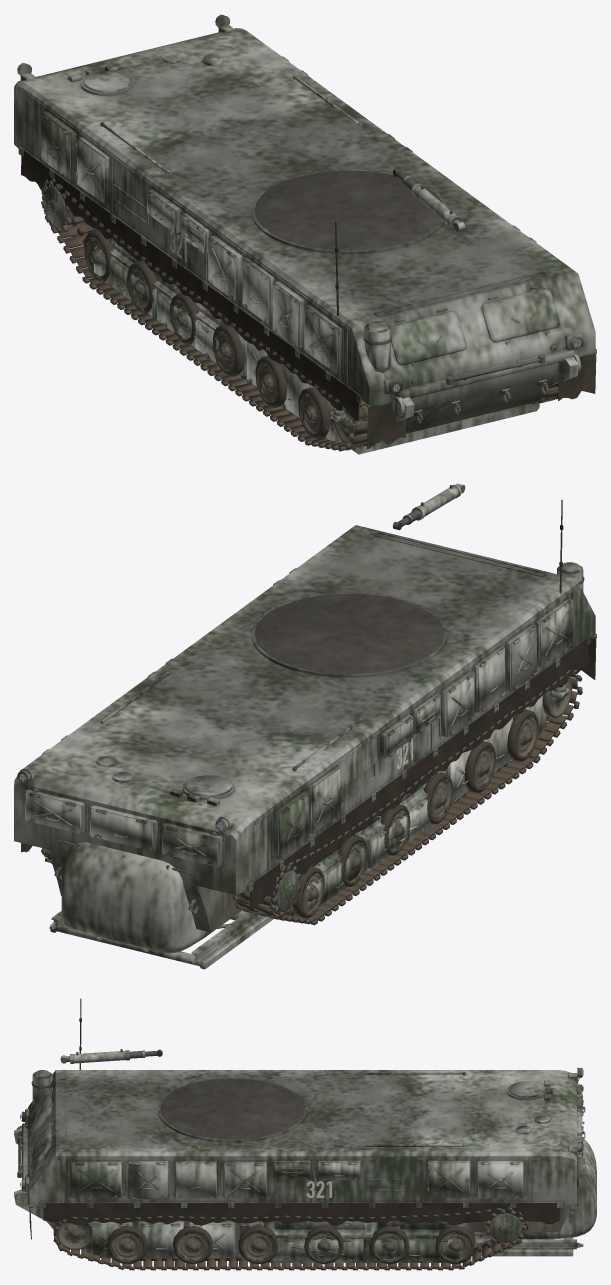
The model's file is buk_lo.glb.
The picture shows the model from 3 angles, top to bottom: view 1: azimuth 30°, elevation 25°; view 2: azimuth 150°, elevation 25°; view 3: azimuth 270°, elevation 25°; orthographic projection. The views are drawn at different scales.
Visible parts, largest first — view 1: body|BK_H, body|BK_R, turret|BK_T, cyl0|BK_T; view 2: body|BK_H, turret|BK_T, body|BK_R, cradle|BK_T, cyl0|BK_T; view 3: body|BK_H, body|BK_R, turret|BK_T, cradle|BK_T, cyl0|BK_T.
Part boxes in pixels (x1,y1,x2,y2): body|BK_H: [14, 14, 596, 449]; body|BK_R: [41, 178, 558, 451]; turret|BK_T: [92, 75, 581, 454]; cyl0|BK_T: [411, 183, 465, 231]; body|BK_H: [14, 525, 596, 932]; turret|BK_T: [61, 499, 568, 953]; body|BK_R: [41, 669, 582, 925]; cradle|BK_T: [49, 904, 273, 969]; cyl0|BK_T: [411, 483, 465, 520]; body|BK_H: [17, 1067, 585, 1239]; body|BK_R: [53, 1207, 528, 1270]; turret|BK_T: [14, 998, 596, 1262]; cradle|BK_T: [301, 1237, 583, 1263]; cyl0|BK_T: [60, 1049, 129, 1063].
Size of the model in its own units: 3.48 by 3.44 by 9.32.
Materials: 11 (7 with a texture image).
